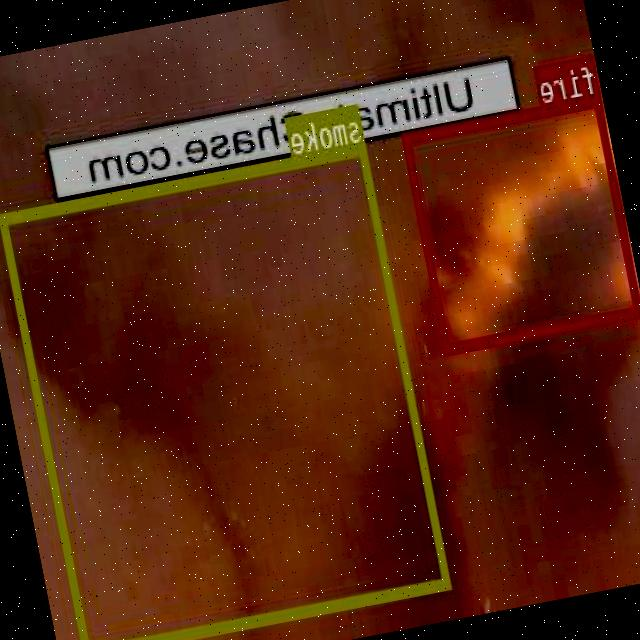fire: (402, 94, 640, 353)
smoke: (0, 141, 452, 640)
